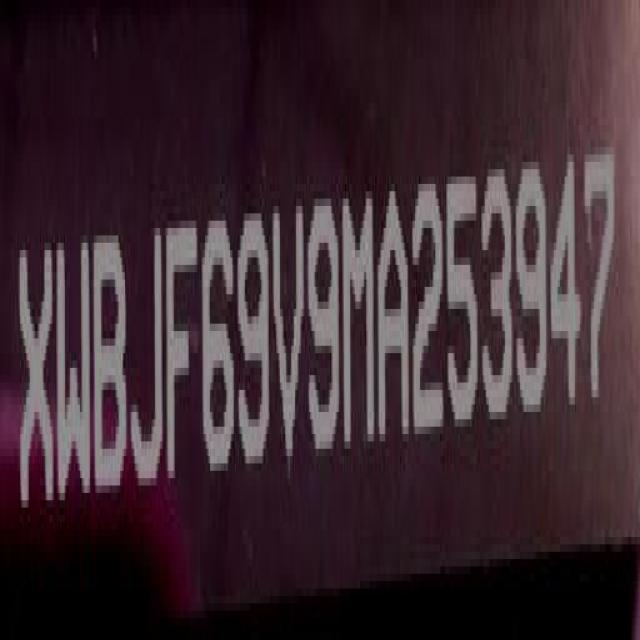3: (412, 174, 446, 450), (482, 160, 514, 428)
4: (550, 152, 580, 423)
5: (447, 169, 481, 438)
6: (200, 212, 236, 480)
7: (586, 139, 620, 422)
9: (238, 211, 274, 481), (516, 161, 550, 427)
A: (16, 230, 54, 519), (376, 182, 414, 442)
B: (306, 190, 341, 466), (95, 235, 129, 510)
F: (167, 217, 201, 494)
J: (134, 226, 166, 499)
M: (343, 181, 379, 461)
V: (270, 199, 307, 471)
W: (55, 232, 91, 516)
